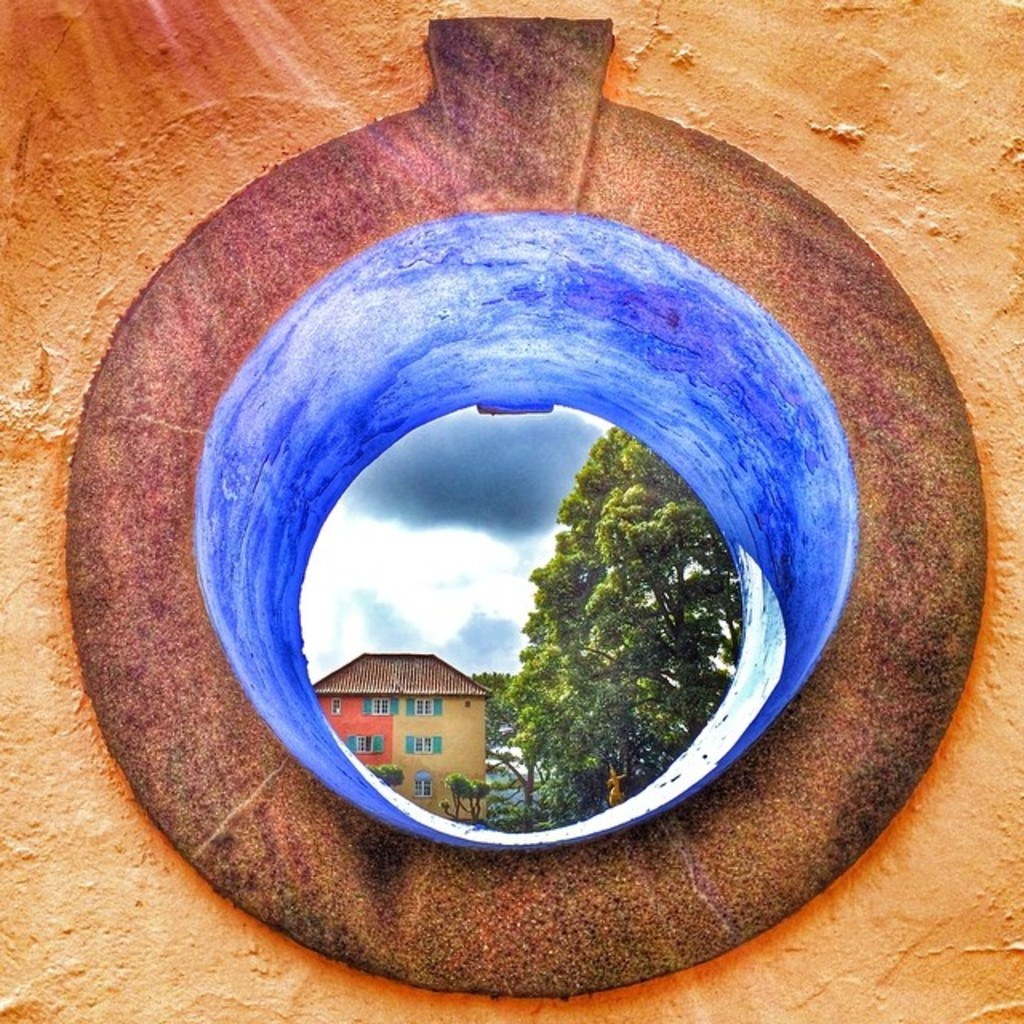Tree: (529, 428, 743, 821), (584, 440, 745, 742), (470, 672, 560, 828)
